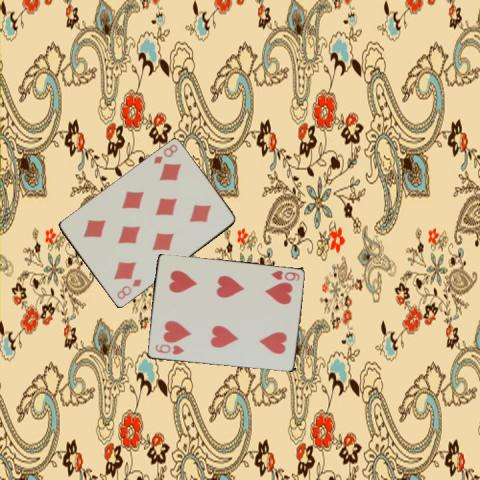6h: (268, 267, 301, 283), (152, 341, 185, 356)
8d: (114, 276, 143, 301), (151, 141, 179, 166)
